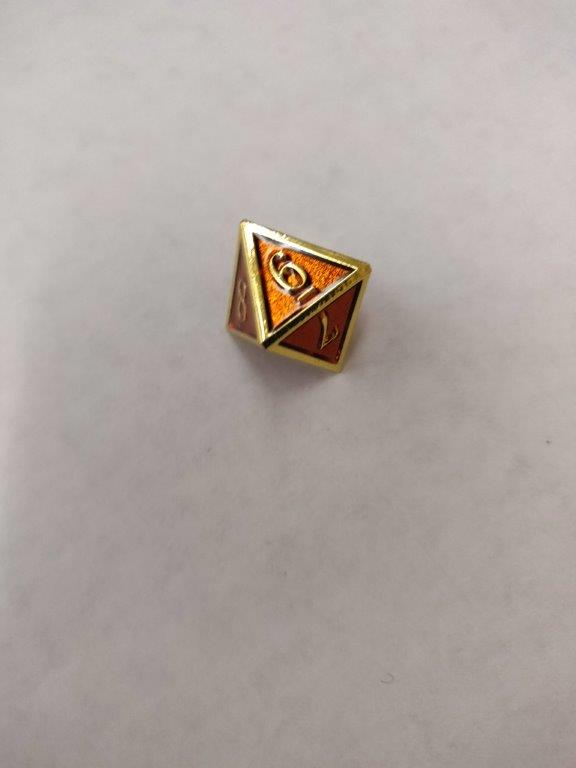d8-6: (222, 217, 373, 374)
